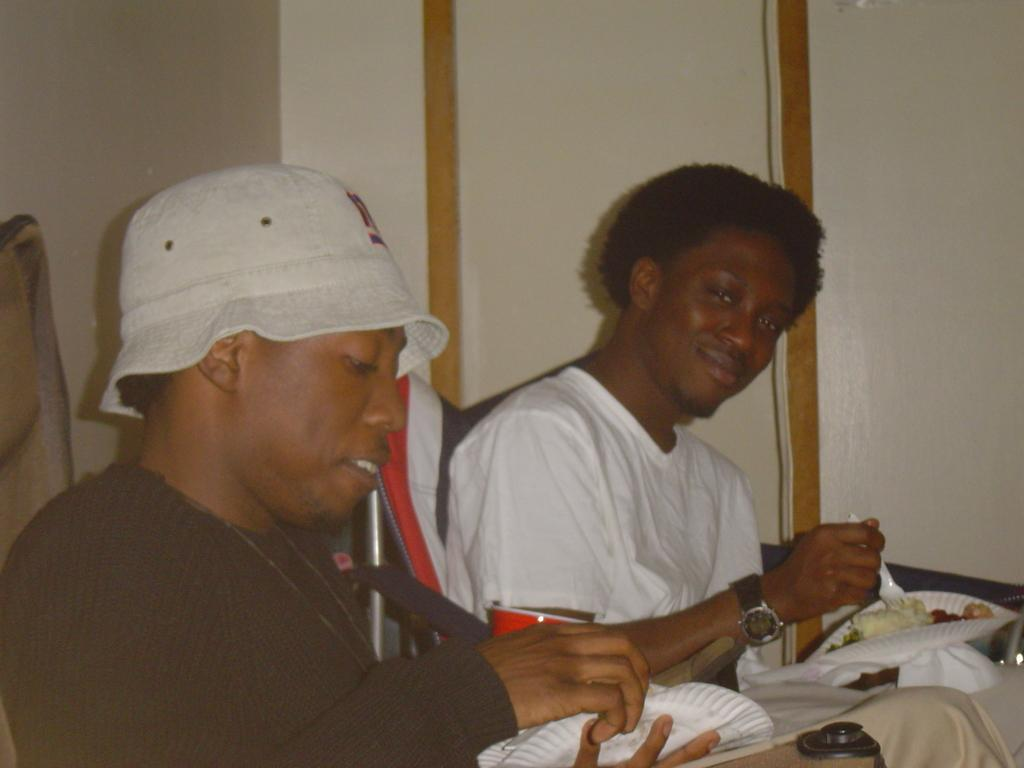Hat: (95, 164, 452, 418)
